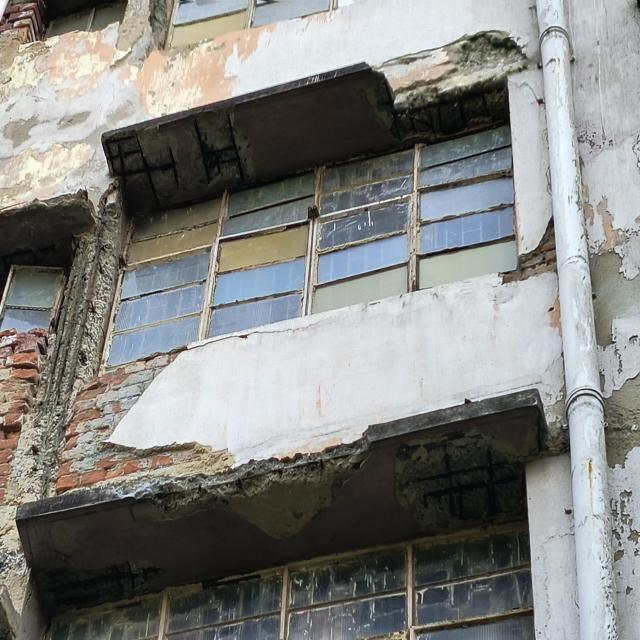Spalling: (16, 389, 547, 606), (104, 64, 509, 214), (6, 180, 122, 505), (0, 190, 97, 256)
exposed brickwork: (50, 352, 235, 495), (0, 328, 48, 500), (229, 478, 272, 510)
